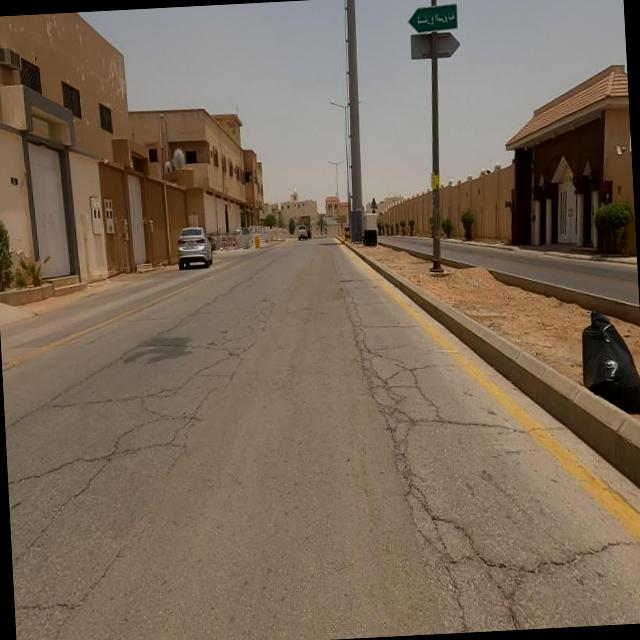debris: (535, 245, 640, 467), (206, 222, 256, 272)
